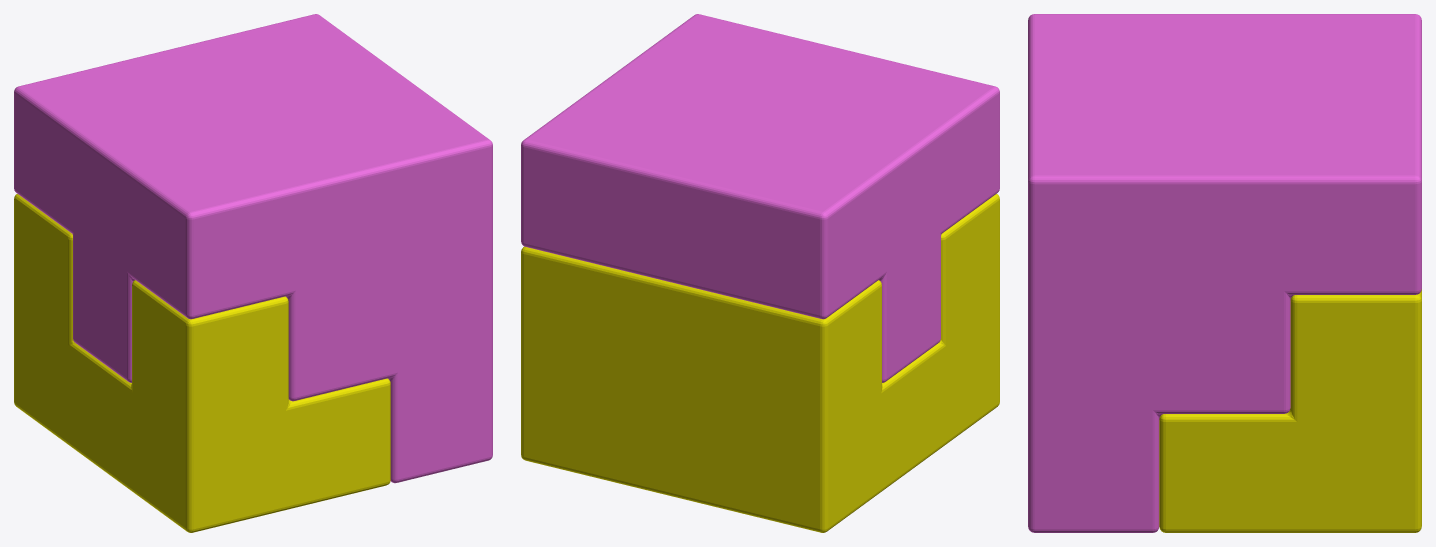
Rendered from Medium1.glb.
3 views of the same model, side by side, from view 1: azimuth 30°, elevation 25°; view 2: azimuth 150°, elevation 25°; view 3: azimuth 270°, elevation 25° (orthographic). The views are drawn at different scales.
Parts seen in each view (by area): view 1: top, bottom; view 2: top, bottom; view 3: top, bottom.
Part boxes in pixels (box(x1,y1,x2,y2)): top: box(14, 14, 492, 483); bottom: box(14, 194, 390, 532); top: box(521, 14, 999, 382); bottom: box(521, 194, 999, 532); top: box(1028, 14, 1421, 532); bottom: box(1159, 289, 1421, 532).
Size of the model in its own units: 6 by 6 by 6.
